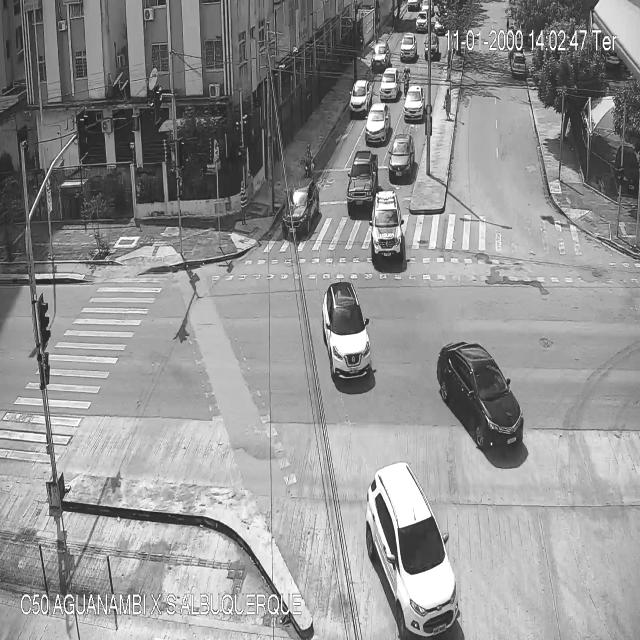Car: (367, 462, 459, 634), (435, 340, 523, 454), (322, 280, 375, 382), (370, 190, 405, 261), (282, 180, 320, 232), (348, 150, 377, 208), (388, 137, 416, 185), (365, 102, 389, 144), (403, 85, 426, 122), (349, 80, 372, 112), (380, 70, 400, 102), (371, 42, 389, 69), (400, 36, 416, 64), (423, 33, 438, 59), (432, 16, 448, 37), (512, 54, 526, 76), (418, 0, 434, 15), (416, 12, 428, 28)
Motorcycle: (300, 145, 314, 180), (403, 65, 411, 96)
